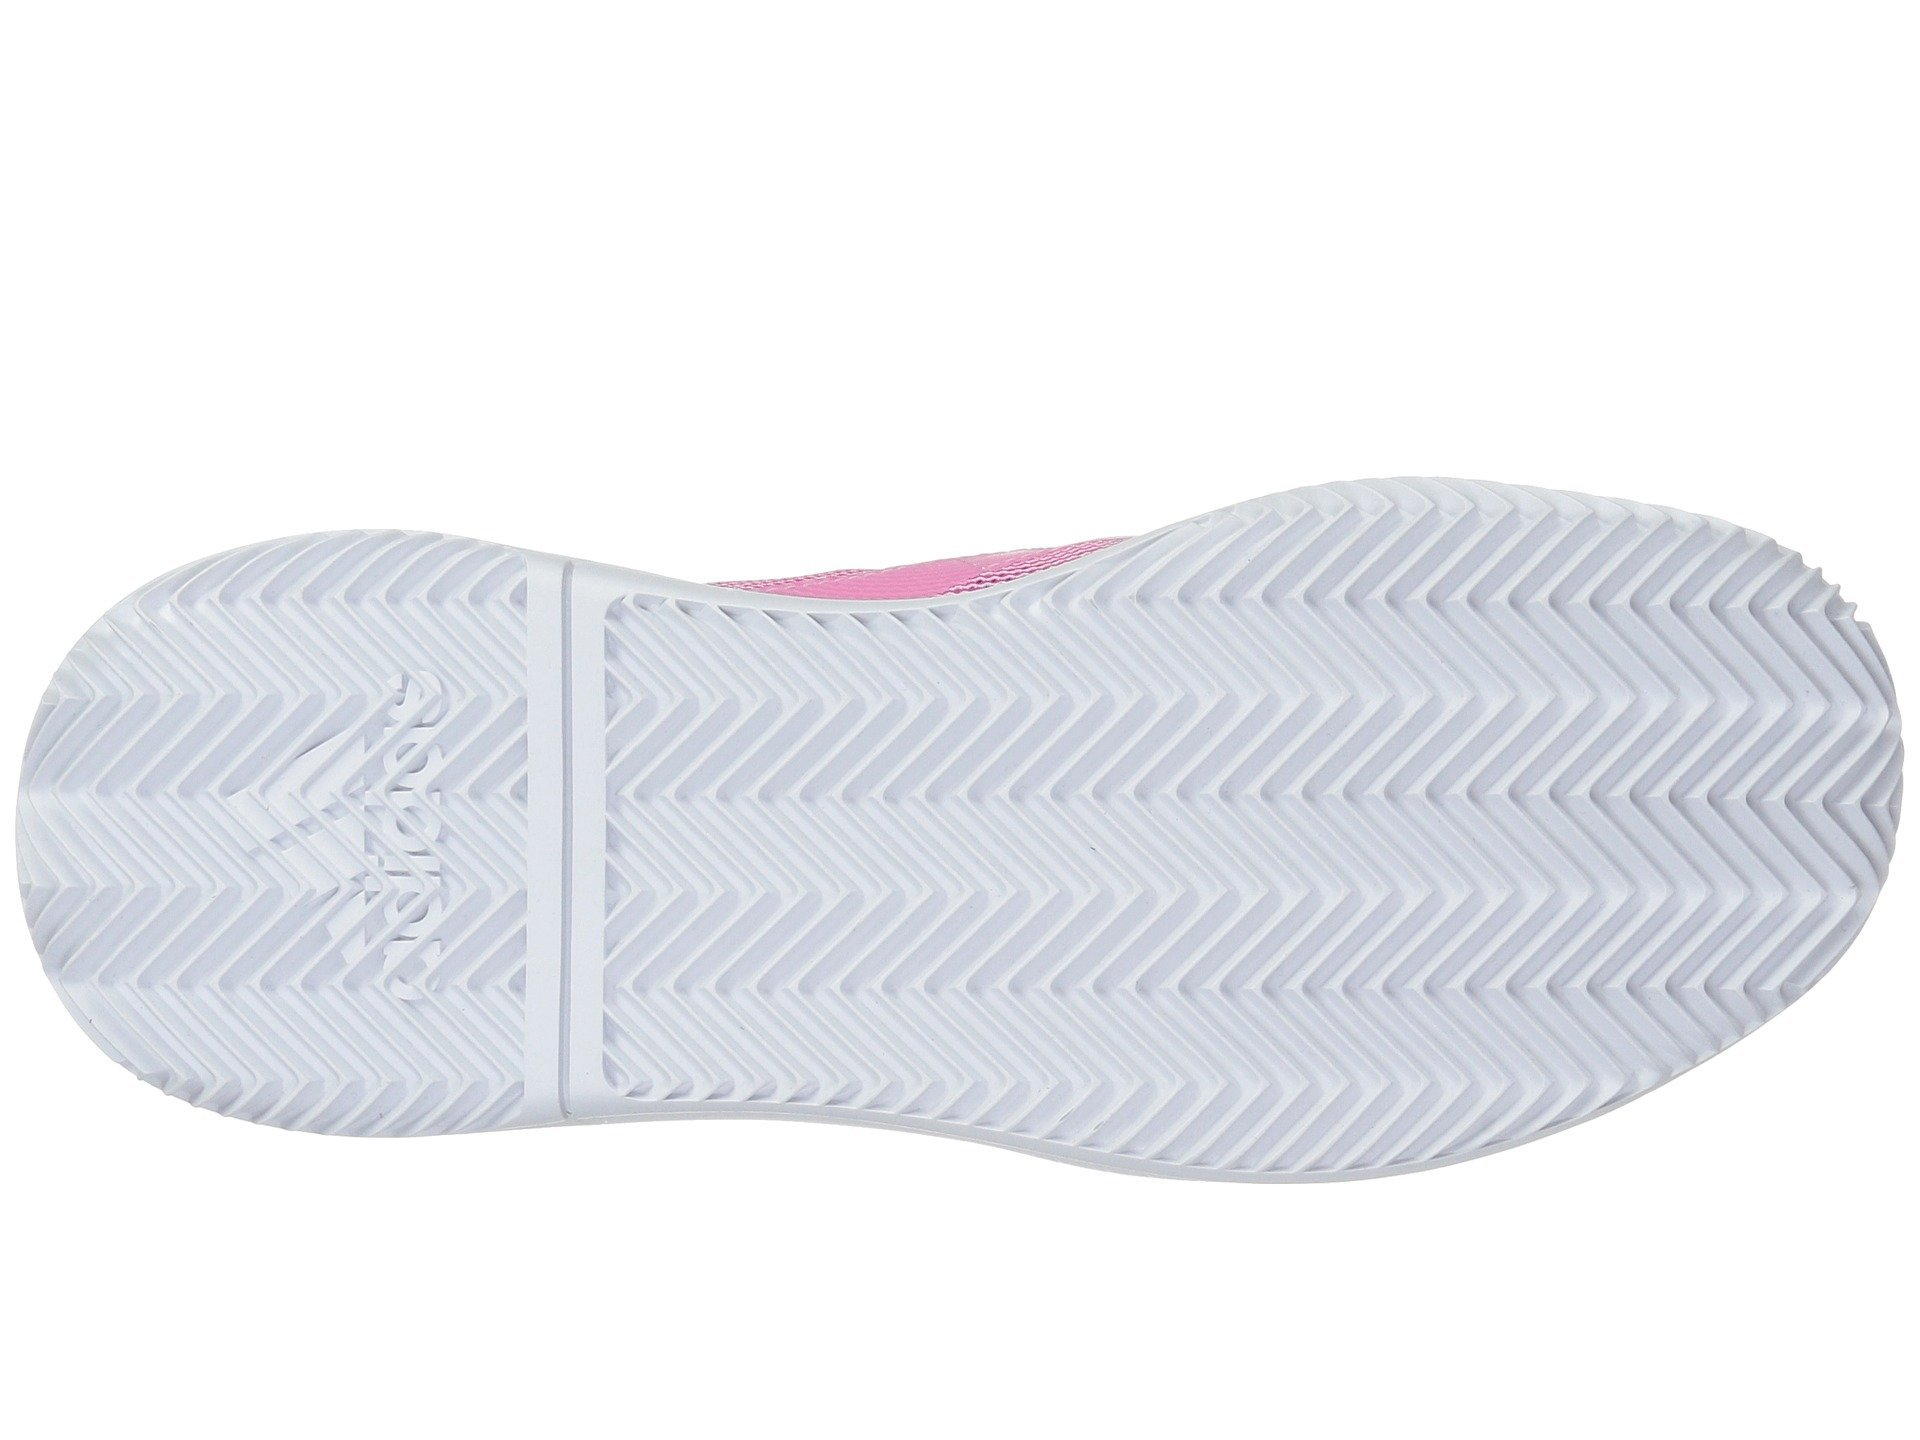chevron: (623, 650, 1076, 1063), (141, 632, 503, 1112)
circle: (141, 632, 503, 1112)
quad: (141, 632, 503, 1112)
text: (141, 632, 503, 1112)
